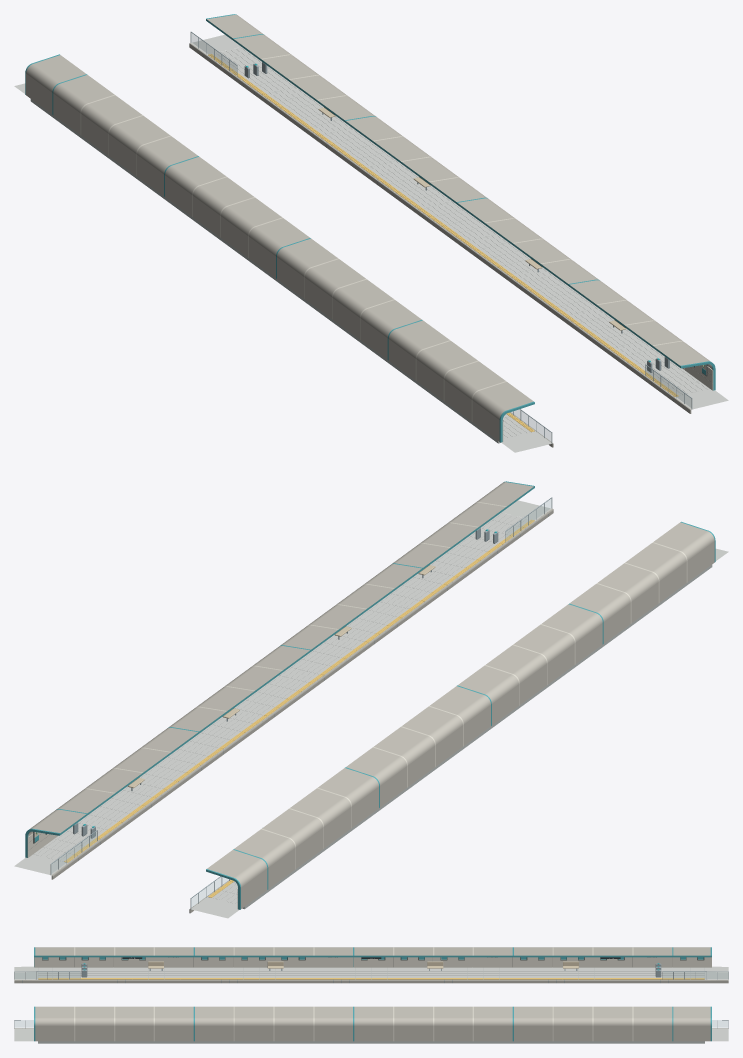
Rendered from station-A6.glb.
3 renders of one model, top to bottom at view 1: azimuth 30°, elevation 25°; view 2: azimuth 150°, elevation 25°; view 3: azimuth 270°, elevation 25°, orthographic. The views are drawn at different scales.
Parts seen in each view (by area): view 1: A6_platform_-1_roof, A6_platform_1_tile, A6_platform_1_roof, A6_platform_1_station_kerb, A6_platform_1_yellow, A6_platform_-1_concrete, A6_platform_-1_cladding, A6_platform_-1_tile, A6_platform_1_cladding, A6_platform_-1_accent; view 2: A6_platform_-1_roof, A6_platform_1_tile, A6_platform_1_roof, A6_platform_1_station_kerb, A6_platform_1_yellow, A6_platform_-1_concrete, A6_platform_-1_cladding, A6_platform_-1_tile, A6_platform_1_cladding, A6_platform_-1_accent; view 3: A6_platform_1_roof, A6_platform_-1_tile, A6_platform_-1_roof, A6_platform_-1_cladding, A6_platform_-1_station_kerb, A6_platform_1_concrete, A6_platform_-1_yellow, A6_platform_1_cladding, A6_platform_-1_accent, A6_platform_-1_sand, A6_platform_1_tile, A6_platform_-1_dark (+5 smaller).
Part boxes in pixels (x1=…): A6_platform_-1_roof: x1=26, y1=55, x2=533, y2=441; A6_platform_1_tile: x1=191, y1=34, x2=728, y2=409; A6_platform_1_roof: x1=206, y1=14, x2=712, y2=368; A6_platform_1_station_kerb: x1=189, y1=43, x2=691, y2=413; A6_platform_1_yellow: x1=208, y1=54, x2=705, y2=396; A6_platform_-1_concrete: x1=30, y1=99, x2=500, y2=443; A6_platform_-1_cladding: x1=80, y1=94, x2=506, y2=441; A6_platform_-1_tile: x1=14, y1=83, x2=551, y2=452; A6_platform_1_cladding: x1=261, y1=54, x2=713, y2=390; A6_platform_-1_accent: x1=25, y1=54, x2=534, y2=442; A6_platform_-1_roof: x1=207, y1=522, x2=714, y2=908; A6_platform_1_tile: x1=14, y1=500, x2=551, y2=875; A6_platform_1_roof: x1=28, y1=482, x2=533, y2=836; A6_platform_1_station_kerb: x1=51, y1=508, x2=553, y2=879; A6_platform_1_yellow: x1=35, y1=519, x2=534, y2=862; A6_platform_-1_concrete: x1=242, y1=565, x2=712, y2=909; A6_platform_-1_cladding: x1=237, y1=542, x2=687, y2=908; A6_platform_-1_tile: x1=191, y1=548, x2=728, y2=918; A6_platform_1_cladding: x1=27, y1=502, x2=506, y2=857; A6_platform_-1_accent: x1=206, y1=521, x2=715, y2=909; A6_platform_1_roof: x1=35, y1=1006, x2=710, y2=1041; A6_platform_-1_tile: x1=14, y1=966, x2=728, y2=979; A6_platform_-1_roof: x1=35, y1=947, x2=710, y2=966; A6_platform_-1_cladding: x1=34, y1=947, x2=711, y2=967; A6_platform_-1_station_kerb: x1=14, y1=979, x2=728, y2=983; A6_platform_1_concrete: x1=38, y1=1041, x2=704, y2=1043; A6_platform_-1_yellow: x1=38, y1=978, x2=704, y2=979; A6_platform_1_cladding: x1=74, y1=1006, x2=633, y2=1041; A6_platform_-1_accent: x1=34, y1=947, x2=711, y2=966; A6_platform_-1_sand: x1=148, y1=961, x2=578, y2=968; A6_platform_1_tile: x1=14, y1=1028, x2=728, y2=1041; A6_platform_-1_dark: x1=42, y1=957, x2=704, y2=960.
Size of the model in its own units: 22.2 by 3.57 by 89.65.
